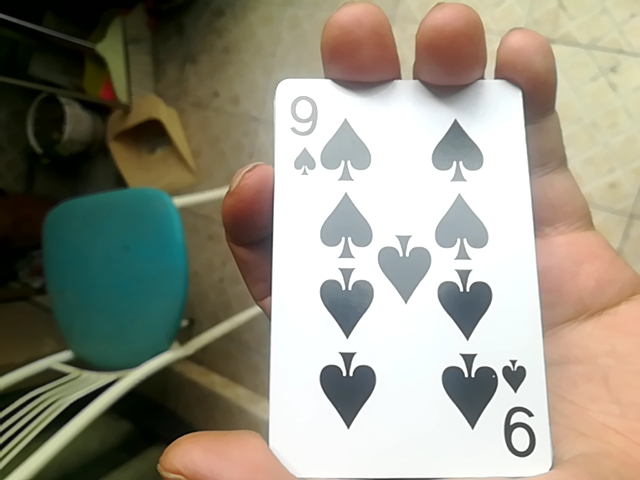ht 9: (264, 70, 545, 476)
